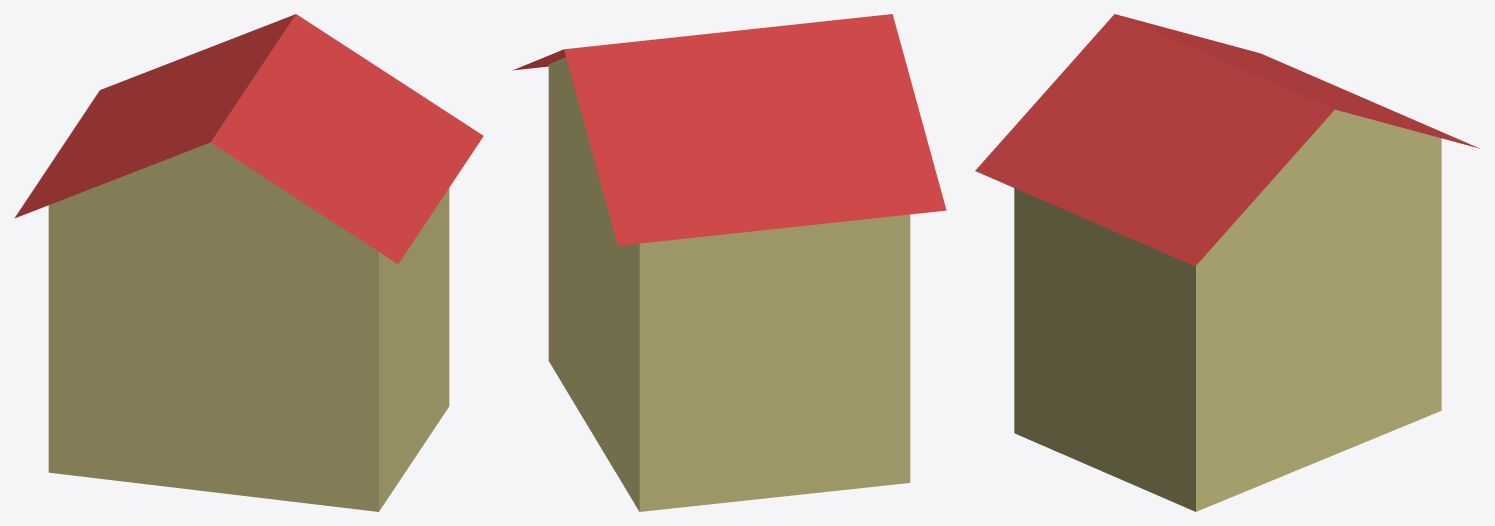
The picture shows the model from 3 angles, left to right: view 1: azimuth 30°, elevation 25°; view 2: azimuth 150°, elevation 25°; view 3: azimuth 270°, elevation 25°; orthographic projection. The views are drawn at different scales.
Visible parts, largest first — view 1: group_5, group_3, group_4; view 2: group_5, group_3, group_4; view 3: group_5, group_3, group_4.
Part boxes in pixels (x1,y1,x2,y2): group_5: (48, 142, 449, 511); group_3: (15, 14, 483, 263); group_4: (14, 14, 441, 218); group_5: (548, 57, 910, 511); group_3: (553, 14, 944, 245); group_4: (513, 14, 946, 210); group_5: (1014, 109, 1441, 511); group_3: (975, 14, 1479, 266); group_4: (1018, 14, 1341, 263).
Bounding box in the file's own units: 18.13 × 18.18 × 14.34.
